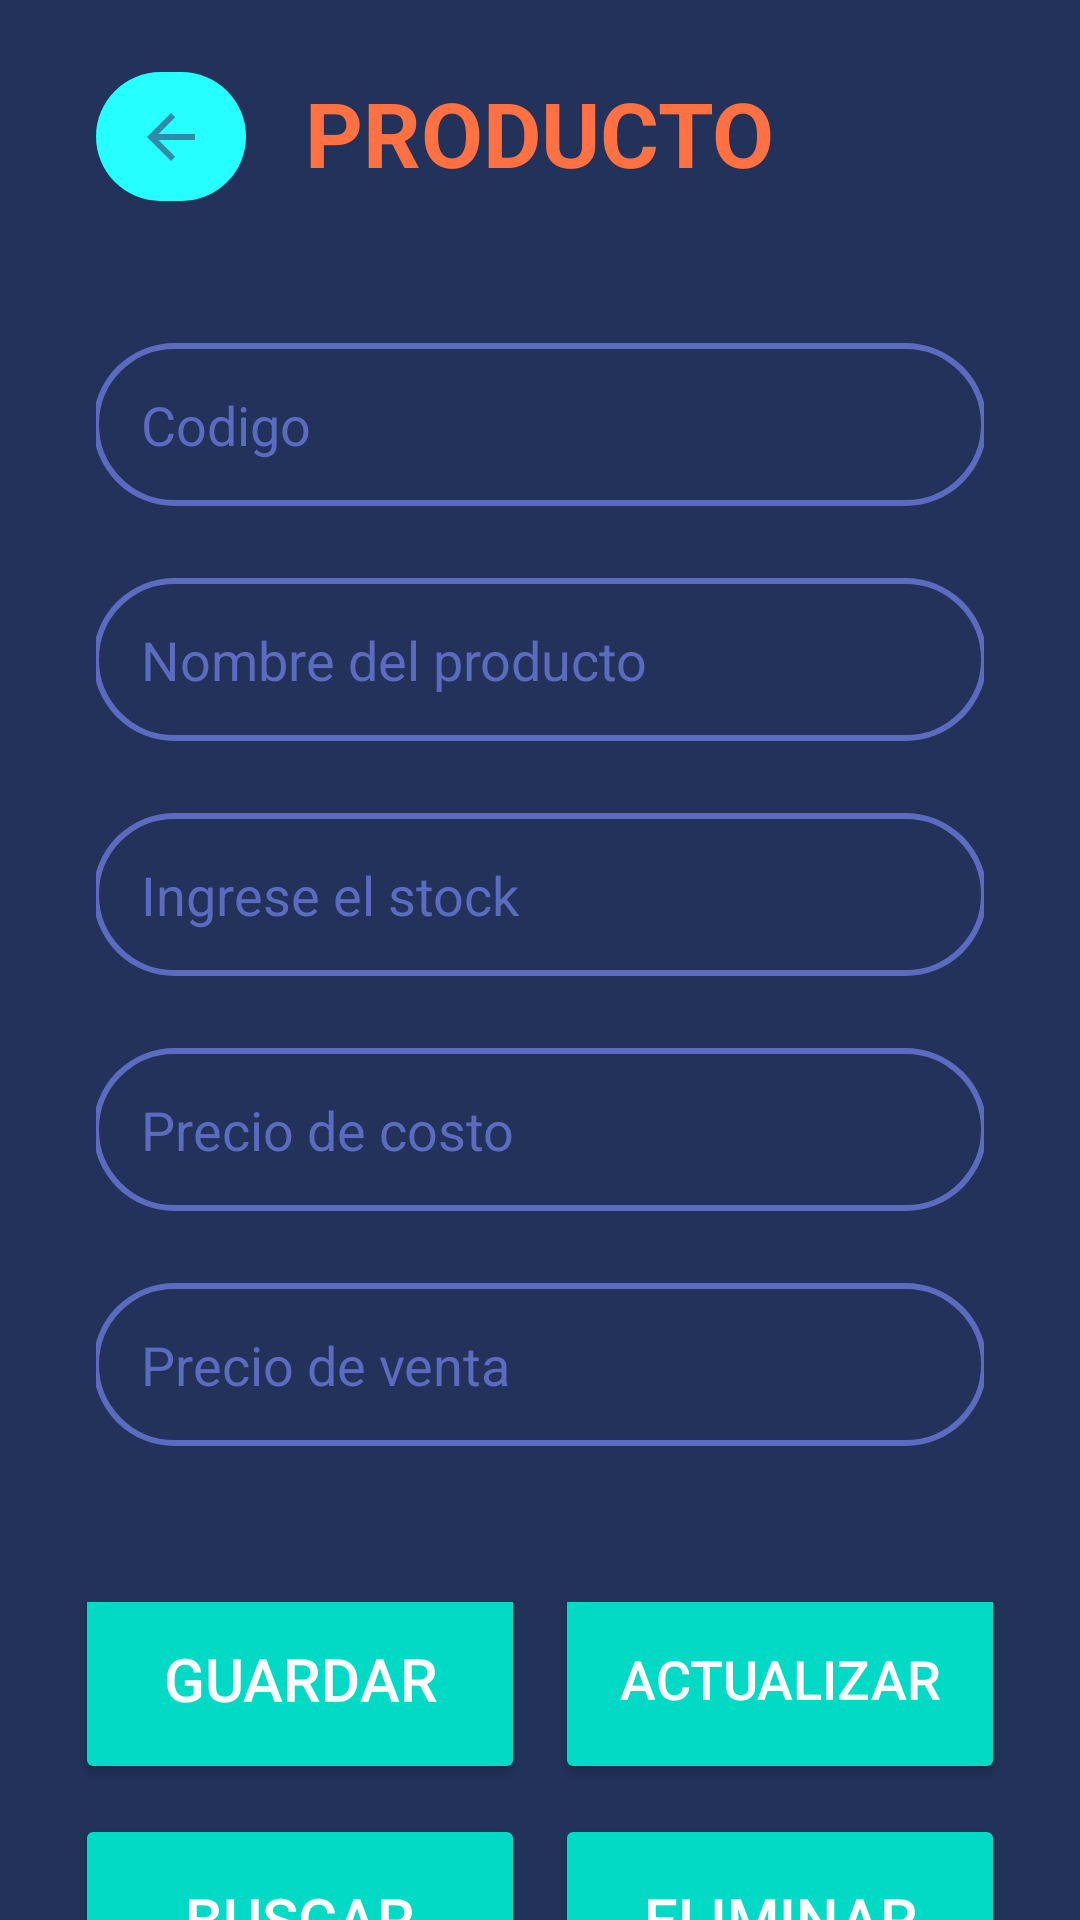

Where to tap for icons on this 1080px x 1920px app screen, as (x=x, y=y):
volver: (x=171, y=136)
